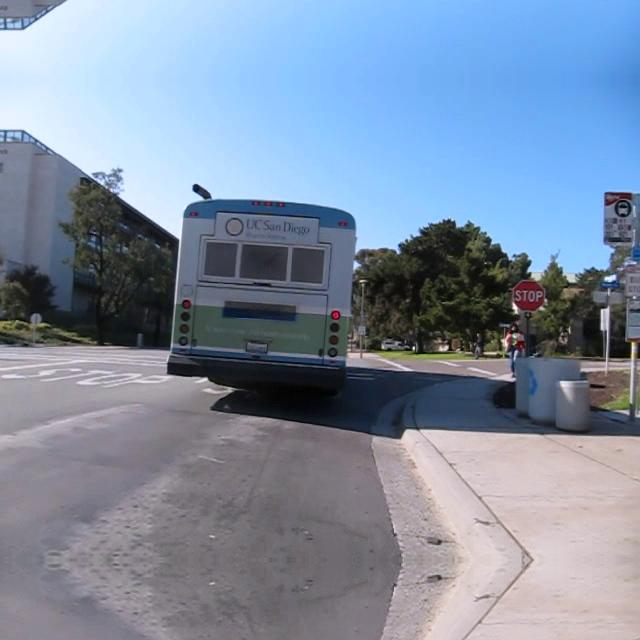stop: (511, 278, 545, 312)
